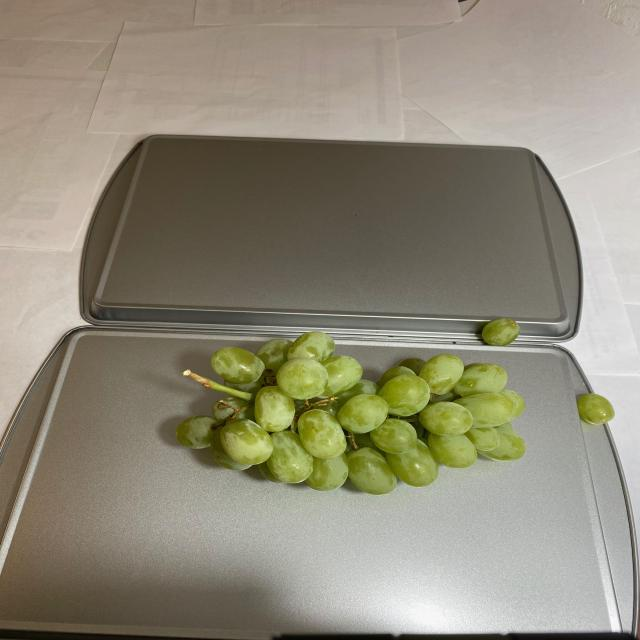grapes: (161, 317, 533, 483), (572, 391, 622, 428)
